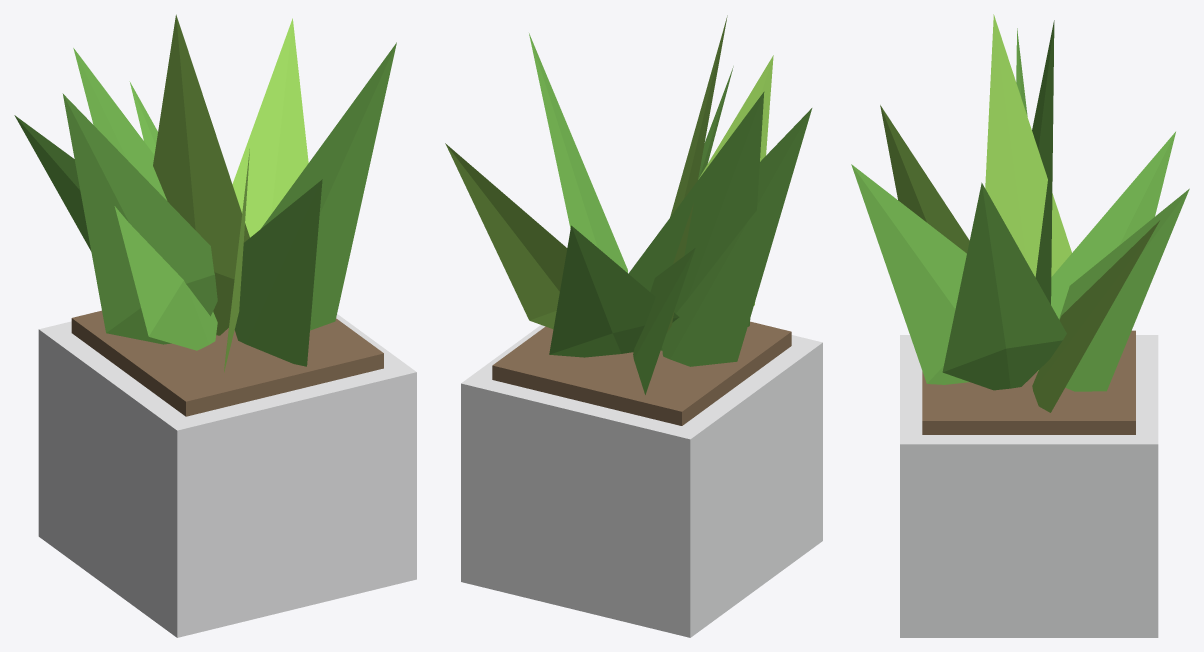
File: 11_plant_small.glb
The picture shows the model from 3 angles, left to right: view 1: azimuth 30°, elevation 25°; view 2: azimuth 150°, elevation 25°; view 3: azimuth 270°, elevation 25°; orthographic projection. The views are drawn at different scales.
Parts seen in each view (by area): view 1: part_1, part_2, part_7, part_6, part_11, part_10, part_8, part_3, part_5, part_9, part_4; view 2: part_1, part_2, part_7, part_8, part_4, part_3, part_11, part_5, part_6, part_9, part_10; view 3: part_1, part_11, part_2, part_10, part_6, part_4, part_5, part_3, part_9, part_8.
Boxes of the visible parts, <box> form: part_1: <box>38,314,416,637</box>; part_2: <box>71,310,383,416</box>; part_7: <box>62,93,217,344</box>; part_6: <box>153,14,249,335</box>; part_11: <box>261,42,396,330</box>; part_10: <box>234,179,322,366</box>; part_8: <box>73,48,217,350</box>; part_3: <box>232,18,308,237</box>; part_5: <box>14,115,91,251</box>; part_9: <box>224,149,249,372</box>; part_4: <box>129,81,157,154</box>; part_1: <box>461,325,822,637</box>; part_2: <box>492,321,791,425</box>; part_7: <box>662,108,812,366</box>; part_8: <box>628,91,764,350</box>; part_4: <box>549,225,679,357</box>; part_3: <box>445,143,567,329</box>; part_11: <box>529,33,627,272</box>; part_5: <box>633,248,695,394</box>; part_6: <box>667,15,727,332</box>; part_9: <box>698,55,773,305</box>; part_10: <box>698,66,733,179</box>; part_1: <box>900,335,1158,637</box>; part_11: <box>942,182,1066,390</box>; part_2: <box>922,330,1135,434</box>; part_10: <box>851,164,969,384</box>; part_6: <box>985,14,1071,371</box>; part_4: <box>1059,188,1189,391</box>; part_5: <box>1051,131,1175,318</box>; part_3: <box>1032,220,1159,412</box>; part_9: <box>880,105,969,253</box>; part_8: <box>1032,20,1054,304</box>.
Size of the model in its own units: 0.612 by 1.07 by 0.6097.
